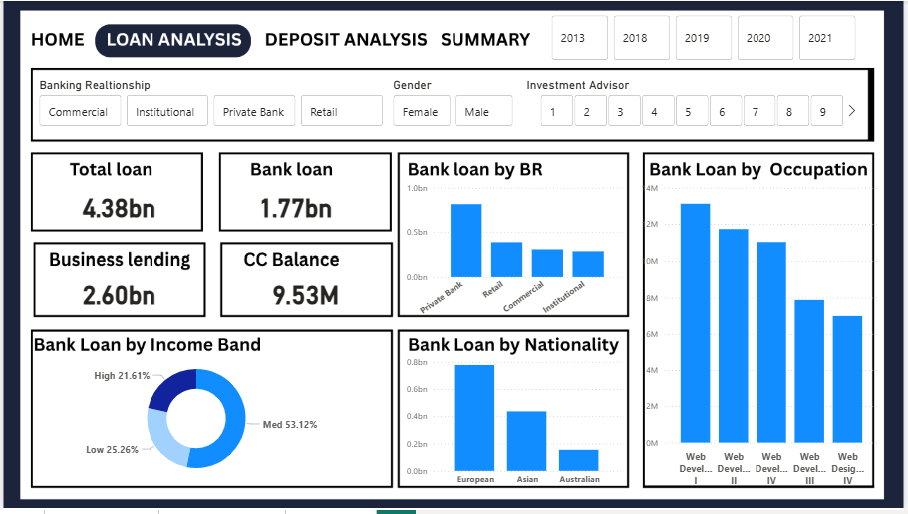

Layout of this report page (visuals, bound fields, positions):
{"tool":"powerbi","page":{"name":"Loan Analysis","canvas":[1280,720],"ordinal":1},"visuals":[{"type":"advancedSlicerVisual","title":"Gender","fields":{"Values":["Banking_Clients.Year of joining"]},"box":[755.9,15.1,483.8,73.9],"z":0},{"type":"actionButton","box":[29.8,34,89.3,38.3],"z":1000},{"type":"actionButton","box":[368.5,34,236.7,38.3],"z":2000},{"type":"actionButton","box":[618,34,137.5,38.3],"z":3000},{"type":"card","fields":{"Values":["Sum(Banking_Clients.Bank Loans)"]},"box":[344.4,262.2,143.1,55.3],"z":4000},{"type":"card","fields":{"Values":["Banking_Clients.Total loan"]},"box":[93.5,262.2,143.1,55.3],"z":5000},{"type":"card","fields":{"Values":["Sum(Banking_Clients.Business Lending)"]},"box":[93.5,384.1,143.1,55.3],"z":6000},{"type":"card","fields":{"Values":["Sum(Banking_Clients.Credit Card Balance)"]},"box":[358.6,384.1,143.1,55.3],"z":7000},{"type":"donutChart","fields":{"Category":["Banking_Clients.Income Band"],"Y":["Sum(Banking_Clients.Bank Loans)"]},"box":[0,496.1,549.9,188.5],"z":8000},{"type":"columnChart","fields":{"Category":["Banking_Clients.BRId"],"Y":["Sum(Banking_Clients.Bank Loans)"]},"box":[568.3,250.9,316.1,209.8],"z":9000},{"type":"columnChart","fields":{"Category":["Banking_Clients.Nationality"],"Y":["Sum(Banking_Clients.Bank Loans)"]},"box":[568.3,496.1,316.1,198.4],"z":10000},{"type":"columnChart","fields":{"Category":["Banking_Clients.Occupation"],"Y":["Sum(Banking_Clients.Bank Loans)"]},"box":[902.8,250.9,347.2,443.6],"z":11000},{"type":"advancedSlicerVisual","title":"Banking Realtionship","fields":{"Values":["Banking_Clients.BRId"]},"box":[46.8,109.1,498.9,73.7],"z":12000},{"type":"advancedSlicerVisual","title":"Gender","fields":{"Values":["Banking_Clients.GenderId"]},"box":[549.9,109.1,181.4,73.7],"z":13000},{"type":"advancedSlicerVisual","fields":{"Values":["Banking_Clients.IAId"]},"box":[739.8,109.1,483.3,73.7],"z":14000}]}

Visuals, with their boxes in screenshot pixels (x1, y1, x2, y2), scaled from the page's 1280x720 canvas onto the 908x514 screenshot:
"Gender" advancedSlicerVisual: bbox=[536, 11, 879, 64]
actionButton: bbox=[21, 24, 84, 52]
actionButton: bbox=[261, 24, 429, 52]
actionButton: bbox=[438, 24, 536, 52]
card - Sum(Banking_Clients.Bank Loans): bbox=[244, 187, 346, 227]
card - Banking_Clients.Total loan: bbox=[66, 187, 168, 227]
card - Sum(Banking_Clients.Business Lending): bbox=[66, 274, 168, 314]
card - Sum(Banking_Clients.Credit Card Balance): bbox=[254, 274, 356, 314]
donutChart - Banking_Clients.Income Band x Sum(Banking_Clients.Bank Loans): bbox=[0, 354, 390, 489]
columnChart - Banking_Clients.BRId x Sum(Banking_Clients.Bank Loans): bbox=[403, 179, 627, 329]
columnChart - Banking_Clients.Nationality x Sum(Banking_Clients.Bank Loans): bbox=[403, 354, 627, 496]
columnChart - Banking_Clients.Occupation x Sum(Banking_Clients.Bank Loans): bbox=[640, 179, 887, 496]
"Banking Realtionship" advancedSlicerVisual: bbox=[33, 78, 387, 130]
"Gender" advancedSlicerVisual: bbox=[390, 78, 519, 130]
advancedSlicerVisual - Banking_Clients.IAId: bbox=[525, 78, 868, 130]
